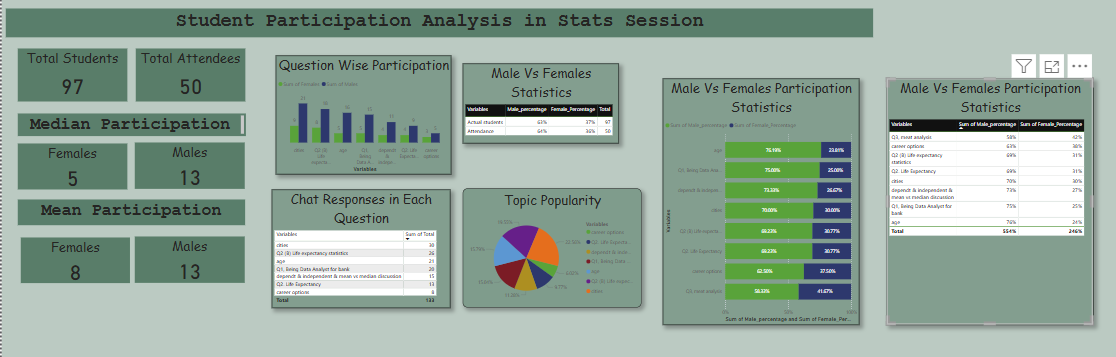

The dashboard page shown, as its layout file describes it:
{"tool":"powerbi","page":{"name":"Page 1","canvas":[3000,1800],"ordinal":0},"visuals":[{"type":"textbox","box":[10,90,2224,74],"z":0},{"type":"card","title":"Total Students","fields":{"Values":["Sum(stats session analysis - Sheet1.Total)"]},"box":[40.3,193.2,280.5,136.1],"z":1000},{"type":"card","title":"Total Attendees","fields":{"Values":["Sum(stats session analysis - Sheet1.Total)"]},"box":[344.4,193.2,280.5,136.1],"z":2000},{"type":"card","title":"Females","fields":{"Values":["Sum(stats session analysis - Sheet1.Females)"]},"box":[40.3,435.1,280.5,117.6],"z":3000},{"type":"textbox","box":[40.7,579.3,582.9,65.6],"z":4000},{"type":"textbox","box":[40.7,359.6,584.6,58.5],"z":5000},{"type":"card","title":"Males","fields":{"Values":["Sum(stats session analysis - Sheet1.Males)"]},"box":[341.9,434.1,281.7,118.7],"z":6000},{"type":"card","title":"Males","fields":{"Values":["Sum(stats session analysis - Sheet1.Males)"]},"box":[341.9,675,281.7,118.7],"z":7000},{"type":"card","title":"Females","fields":{"Values":["Sum(stats session analysis - Sheet1.Females)"]},"box":[49.6,676.8,279.9,116.9],"z":8000},{"type":"clusteredColumnChart","title":"Question Wise Participation","fields":{"Category":["stats session analysis - Sheet1.Variables"],"Y":["Sum(stats session analysis - Sheet1.Females)","Sum(stats session analysis - Sheet1.Males)"]},"box":[701.6,210.8,450,304.7],"z":9000},{"type":"tableEx","title":"Chat Responses in Each Question","fields":{"Values":["stats session analysis - Sheet1.Variables","Sum(stats session analysis - Sheet1.Total)"]},"box":[693.3,553.3,457.8,304.4],"z":10000},{"type":"pieChart","title":"Topic Popularity","fields":{"Category":["stats session analysis - Sheet1.Variables"],"Y":["Sum(stats session analysis - Sheet1.Total)"]},"box":[1182,552,458,305],"z":11000},{"type":"tableEx","title":"Male Vs Females Statistics","fields":{"Values":["stats session analysis - Sheet1.Variables","stats session analysis - Sheet1.Male_percentage","stats session analysis - Sheet1.Female_Percentage","stats session analysis - Sheet1.Total"]},"box":[1181.7,230,400,205],"z":12000},{"type":"actionButton","box":[0,0,100,40],"z":13000},{"type":"hundredPercentStackedBarChart","title":"Male Vs Females Participation Statistics","fields":{"Category":["stats session analysis - Sheet1.Variables"],"Y":["Divide(Sum(stats session analysis - Sheet1.Male_percentage), ScopedEval(Sum(stats session analysis - Sheet1.Male_percent","Divide(Sum(stats session analysis - Sheet1.Female_Percentage), ScopedEval(Sum(stats session analysis - Sheet1.Female_Per"]},"box":[1696,268,504,632],"z":14000},{"type":"tableEx","title":"Male Vs Females Participation Statistics","fields":{"Values":["stats session analysis - Sheet1.Variables","Sum(stats session analysis - Sheet1.Male_percentage)","Sum(stats session analysis - Sheet1.Female_Percentage)"]},"box":[2268,268,530,632],"z":15001}]}

Visuals, with their boxes on the page's 3000x1800 design canvas (x1, y1, x2, y2). These are canvas units, not pixel positions in the 1116x357 screenshot, which may show the page scaled, cropped or inside an application window:
textbox: <box>10,90,2234,164</box>
"Total Students" card: <box>40,193,321,329</box>
"Total Attendees" card: <box>344,193,625,329</box>
"Females" card: <box>40,435,321,553</box>
textbox: <box>41,579,624,645</box>
textbox: <box>41,360,625,418</box>
"Males" card: <box>342,434,624,553</box>
"Males" card: <box>342,675,624,794</box>
"Females" card: <box>50,677,330,794</box>
"Question Wise Participation" clusteredColumnChart: <box>702,211,1152,516</box>
"Chat Responses in Each Question" tableEx: <box>693,553,1151,858</box>
"Topic Popularity" pieChart: <box>1182,552,1640,857</box>
"Male Vs Females Statistics" tableEx: <box>1182,230,1582,435</box>
actionButton: <box>0,0,100,40</box>
"Male Vs Females Participation Statistics" hundredPercentStackedBarChart: <box>1696,268,2200,900</box>
"Male Vs Females Participation Statistics" tableEx: <box>2268,268,2798,900</box>
